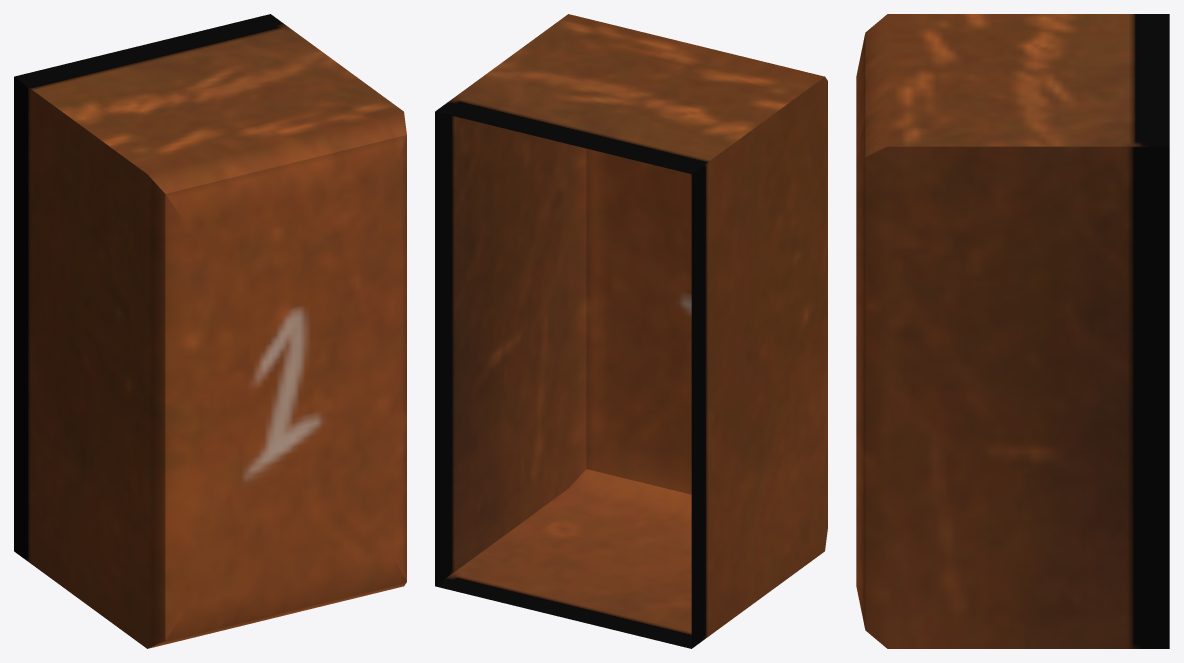
Rendered from radio_button1.fbx.
3 renders of one model, left to right at view 1: azimuth 30°, elevation 25°; view 2: azimuth 150°, elevation 25°; view 3: azimuth 270°, elevation 25°, orthographic. The views are drawn at different scales.
Visible parts, largest first — view 1: Button1; view 2: Button1; view 3: Button1.
Part boxes in pixels (left/top/right/bottom): Button1: left=14, top=14, right=406, bottom=648; Button1: left=435, top=14, right=827, bottom=648; Button1: left=856, top=14, right=1169, bottom=648.
Size of the model in its own units: 0.0194 by 0.0343 by 0.0194.
1 material, 1 textured.
